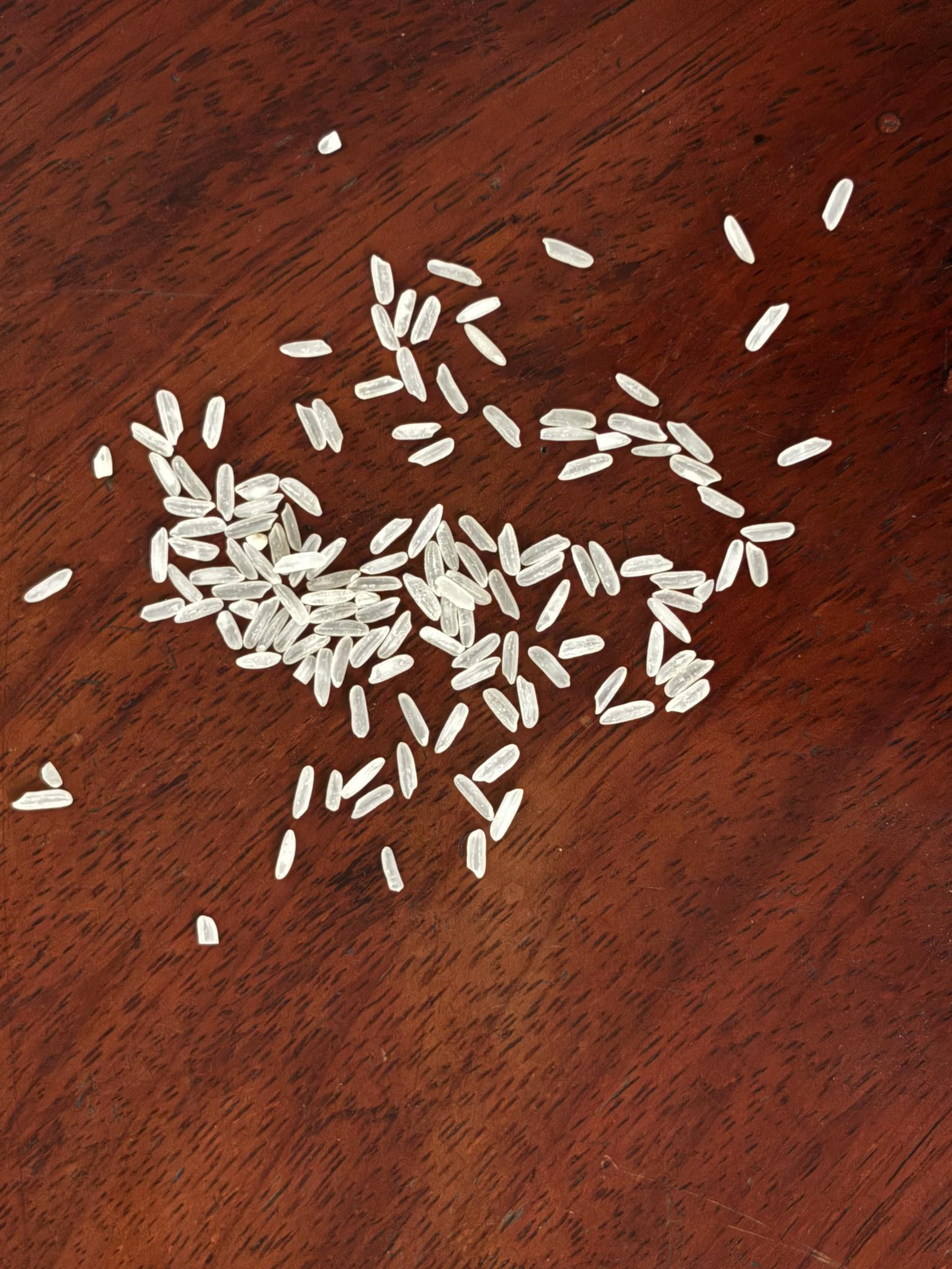Rice-th-y-nh: (744, 302, 790, 352), (647, 596, 691, 643), (666, 420, 714, 463), (662, 659, 715, 697), (407, 503, 444, 557), (527, 645, 572, 689), (535, 580, 572, 633), (454, 774, 495, 821), (464, 323, 507, 367), (403, 573, 442, 621), (607, 412, 666, 443), (342, 757, 385, 799), (482, 404, 522, 449), (451, 633, 501, 669), (588, 540, 620, 595), (368, 516, 413, 555), (279, 477, 324, 516), (434, 703, 469, 753), (516, 552, 566, 587), (474, 745, 520, 783), (435, 364, 469, 415), (444, 569, 492, 605), (24, 569, 73, 604), (173, 456, 211, 501), (490, 789, 523, 840), (349, 626, 390, 667), (245, 597, 280, 645), (396, 347, 427, 401), (482, 688, 520, 732), (669, 454, 721, 486), (312, 398, 344, 450), (777, 436, 832, 466), (427, 258, 482, 288), (715, 539, 746, 592), (378, 611, 412, 659), (488, 569, 520, 620), (273, 582, 310, 626), (243, 542, 280, 586), (309, 537, 346, 581), (723, 216, 756, 265), (665, 679, 711, 714), (543, 237, 593, 269), (821, 179, 853, 229), (697, 485, 744, 519), (398, 693, 429, 744), (451, 659, 500, 691), (593, 667, 627, 713), (458, 514, 498, 553), (654, 649, 697, 685), (558, 453, 613, 481), (614, 373, 659, 407), (435, 575, 476, 612), (283, 633, 330, 665), (130, 423, 174, 457), (520, 534, 568, 565), (410, 296, 441, 344), (306, 566, 359, 594), (571, 545, 600, 596), (351, 784, 394, 818), (213, 578, 271, 603), (455, 542, 488, 585), (370, 304, 400, 351), (495, 524, 522, 576), (225, 538, 258, 580), (158, 390, 184, 443), (167, 565, 203, 603), (149, 452, 180, 496), (408, 437, 455, 466), (368, 654, 415, 683), (169, 535, 219, 562), (419, 626, 464, 656), (600, 700, 654, 725), (12, 788, 73, 810), (649, 568, 707, 591), (235, 492, 284, 519), (297, 405, 326, 450), (456, 296, 501, 325), (258, 608, 289, 650), (653, 588, 703, 614), (741, 520, 796, 543), (274, 550, 324, 575), (391, 289, 417, 337), (163, 495, 215, 519), (148, 528, 171, 582), (202, 396, 226, 447), (175, 597, 222, 623), (278, 504, 304, 551), (302, 587, 355, 610), (360, 551, 408, 576), (355, 375, 403, 400), (225, 515, 275, 539), (435, 521, 459, 571), (621, 554, 673, 577), (292, 766, 315, 818), (315, 616, 367, 639), (644, 623, 666, 677), (171, 516, 225, 538), (215, 463, 236, 519), (558, 634, 605, 659), (396, 743, 418, 796), (313, 648, 333, 706), (273, 619, 308, 652), (542, 408, 597, 429), (356, 597, 400, 623), (236, 472, 280, 498), (371, 256, 394, 305), (331, 636, 353, 687), (215, 610, 243, 650), (540, 423, 596, 443), (309, 602, 357, 625), (275, 830, 297, 880), (517, 676, 539, 726), (349, 685, 370, 737), (280, 338, 332, 359), (745, 542, 769, 587), (632, 438, 681, 460), (500, 631, 520, 683), (141, 598, 184, 622), (381, 847, 404, 891), (191, 566, 242, 585), (350, 574, 401, 593), (267, 524, 291, 564), (423, 542, 444, 587), (392, 422, 441, 441), (466, 830, 486, 876), (236, 651, 280, 670), (596, 430, 631, 451), (293, 654, 317, 684), (325, 771, 343, 811), (229, 597, 259, 621), (93, 446, 113, 478), (41, 762, 63, 788), (693, 579, 716, 603), (201, 916, 219, 944), (299, 533, 321, 554), (354, 590, 379, 608), (196, 916, 212, 944), (246, 532, 269, 551), (289, 569, 306, 589)
